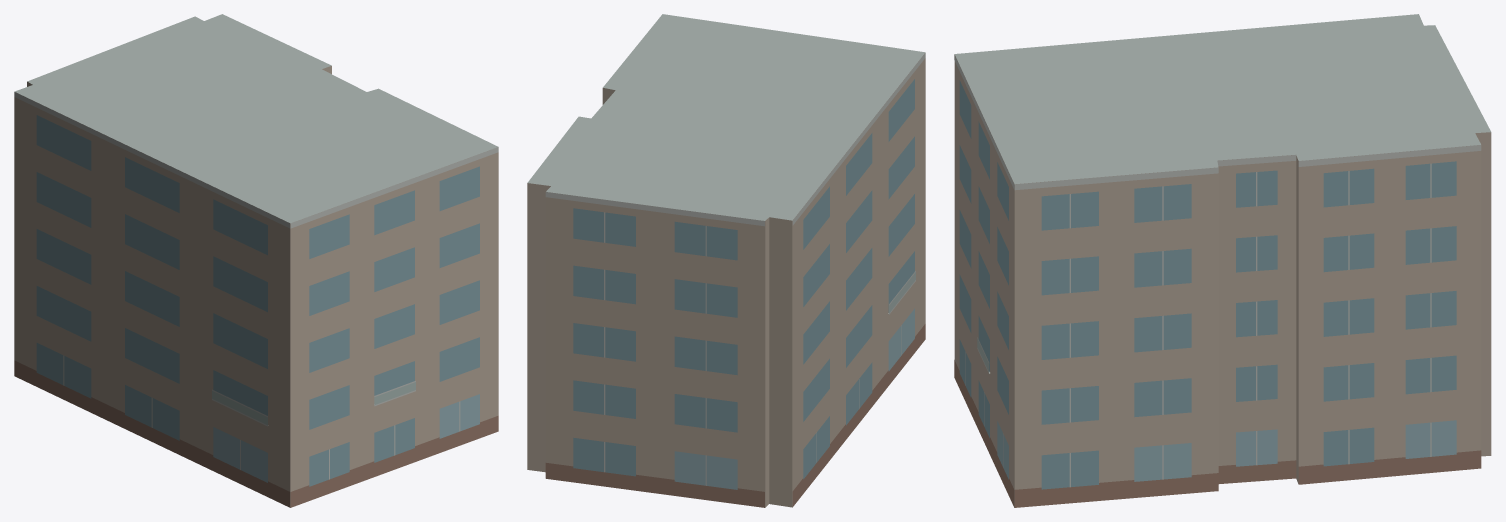
File: survey-upis-32616214.glb
3 renders of one model, left to right at view 1: azimuth 30°, elevation 25°; view 2: azimuth 150°, elevation 25°; view 3: azimuth 270°, elevation 25°, orthographic. The views are drawn at different scales.
Visible parts, largest first — view 1: survey-upis-32616214.tmp; view 2: survey-upis-32616214.tmp; view 3: survey-upis-32616214.tmp.
Part boxes in pixels (box(x1,y1,x2,y2)): survey-upis-32616214.tmp: box(14, 14, 498, 507); survey-upis-32616214.tmp: box(527, 14, 925, 507); survey-upis-32616214.tmp: box(954, 14, 1491, 507).
Bounding box in the file's own units: 14.79 × 13.1 × 19.71.
